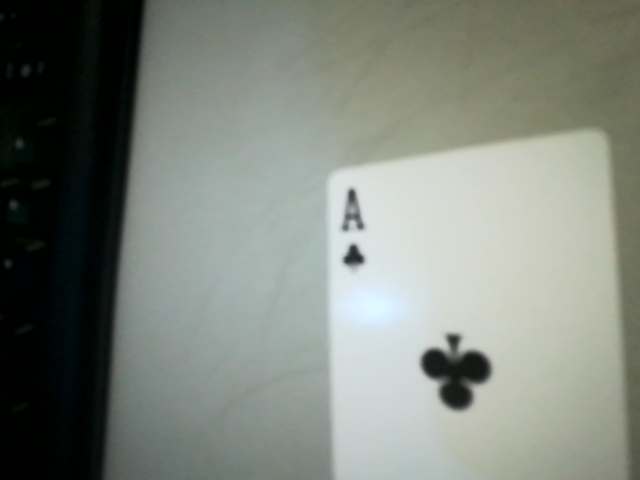mh a: (325, 174, 386, 281)
